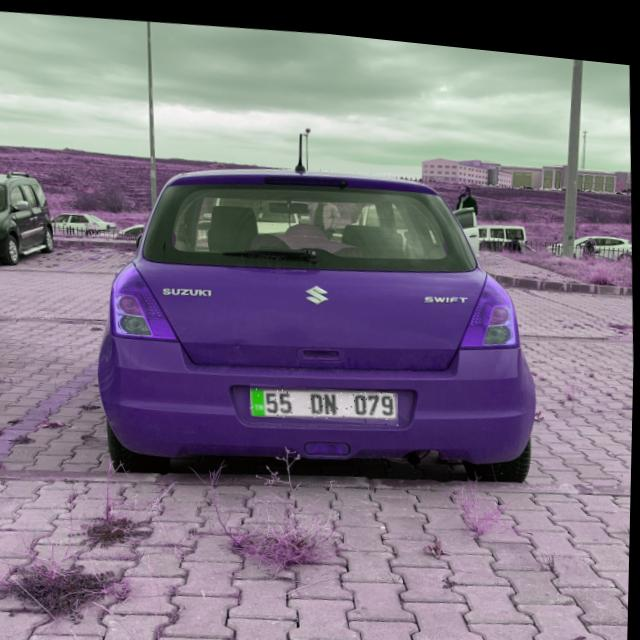license_plate: (250, 372, 400, 421)
